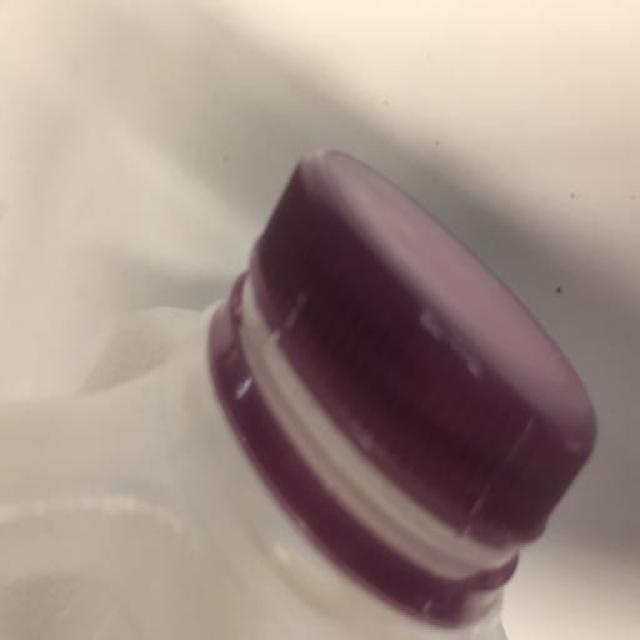plastic_bottle: (4, 152, 608, 640)
